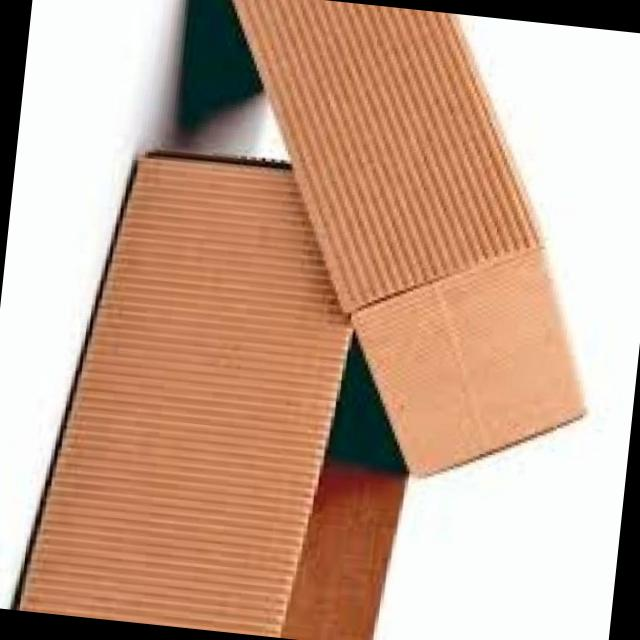cardboard paper: (19, 157, 406, 640), (235, 0, 586, 477), (19, 158, 351, 638)
